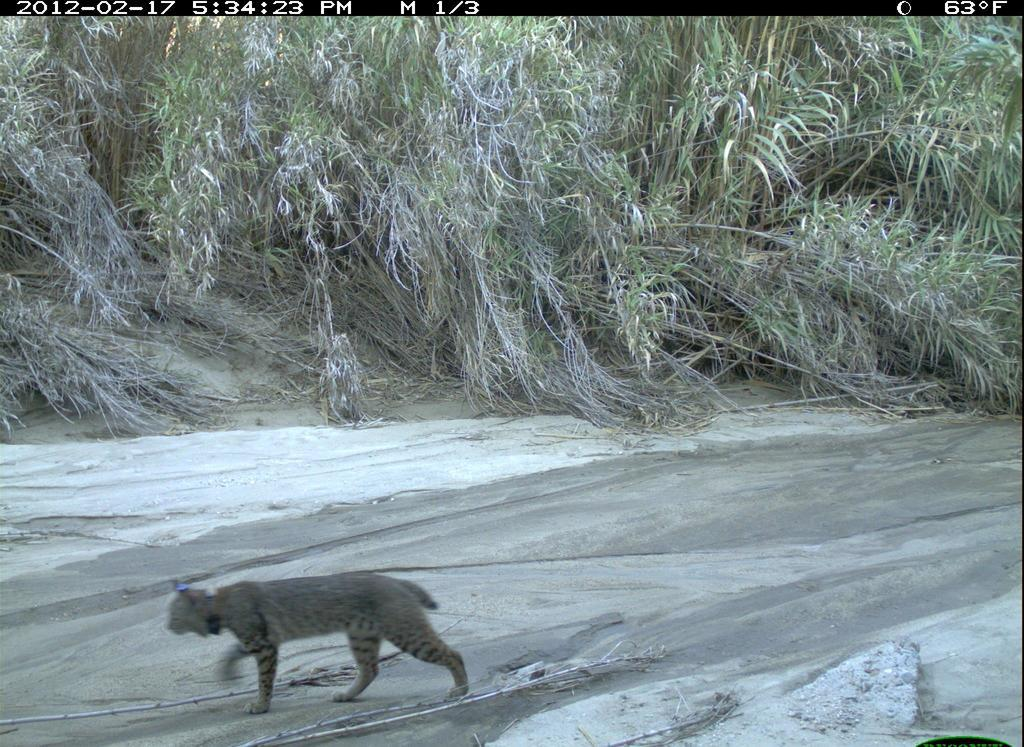bobcat: (163, 570, 483, 717)
